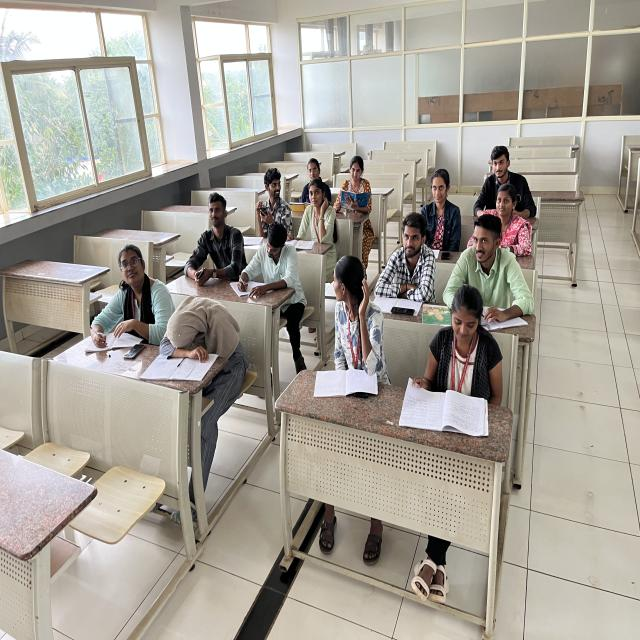Reading: (422, 282, 503, 406), (333, 159, 372, 216)
Sleeping: (161, 294, 235, 360)
Using Phone: (186, 194, 245, 287)
Writing: (86, 239, 168, 346), (235, 224, 301, 296)
